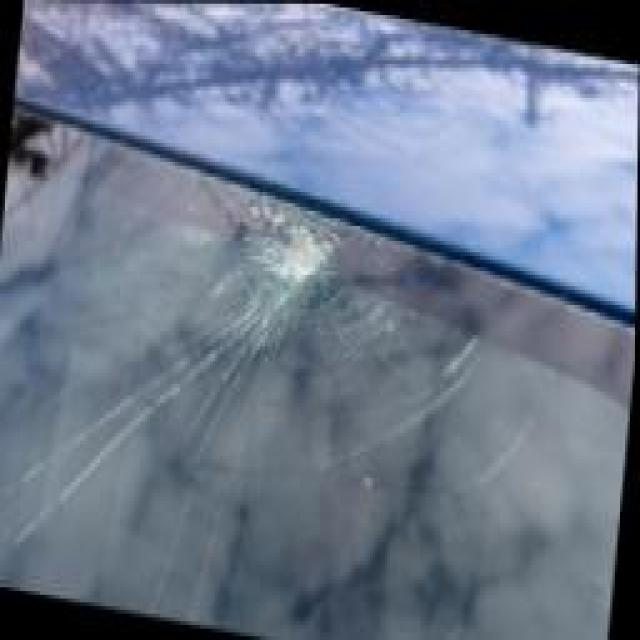Windshield: (0, 113, 576, 640)
